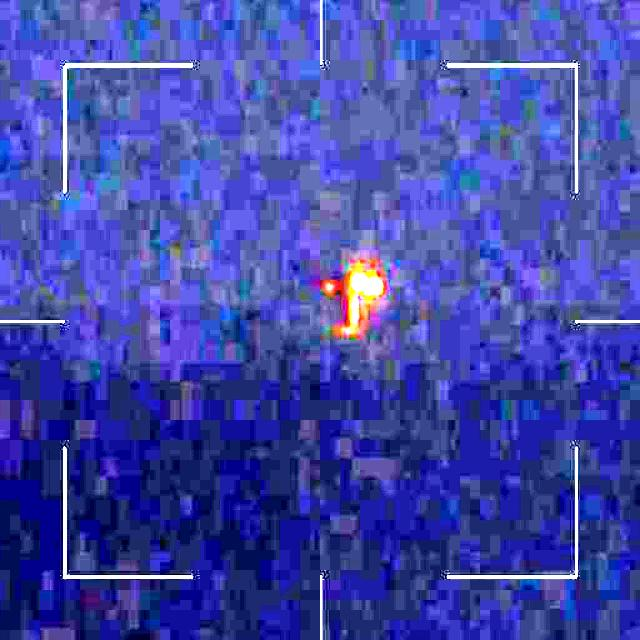bird: (309, 260, 386, 338)
